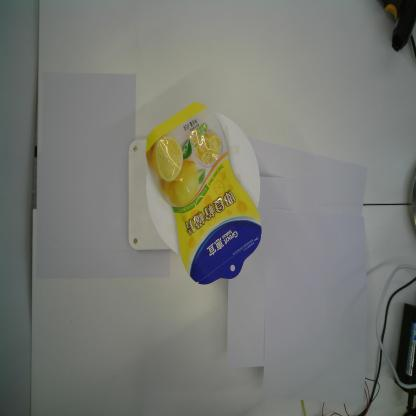Dried Fruit: (144, 102, 263, 286)
